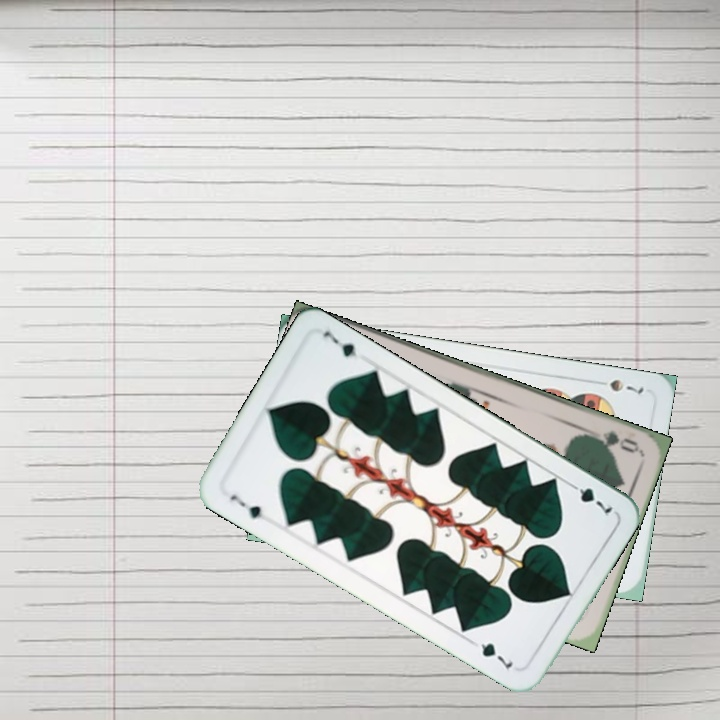G7: (564, 478, 615, 519), (226, 490, 271, 525)
GO: (582, 426, 641, 456)
S7: (590, 375, 647, 396)
